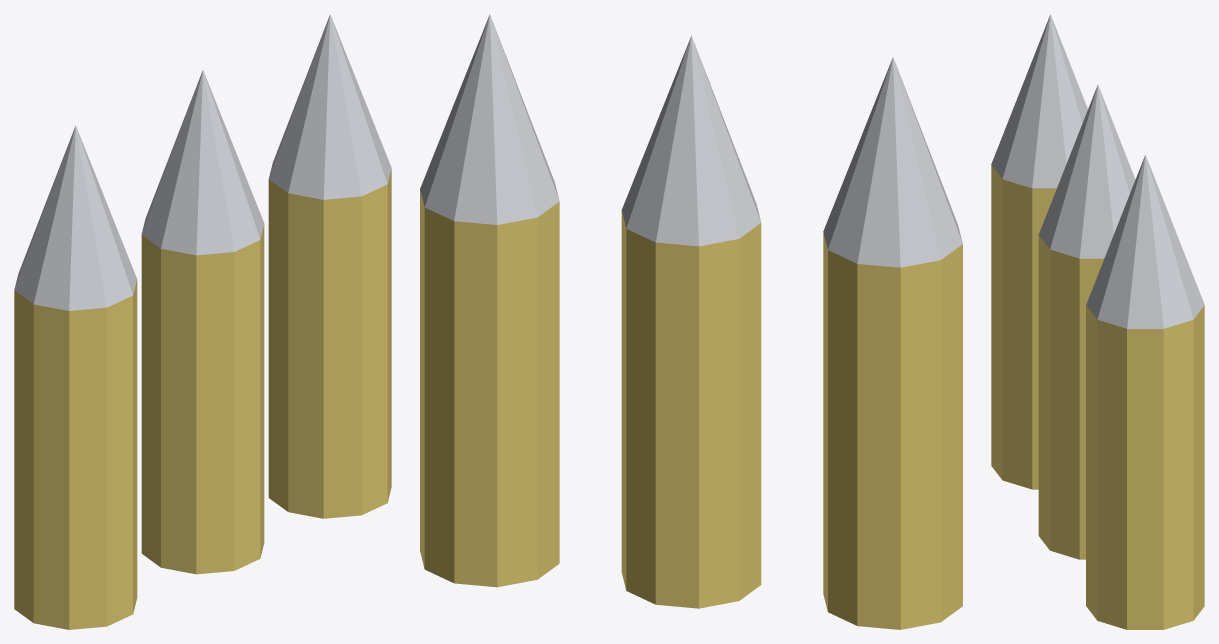
Rendered from AmmoPierce.fbx.
3 renders of one model, left to right at view 1: azimuth 30°, elevation 25°; view 2: azimuth 150°, elevation 25°; view 3: azimuth 270°, elevation 25°, orthographic. The views are drawn at different scales.
Parts seen in each view (by area): view 1: Body; view 2: Body; view 3: Body.
Boxes of the visible parts, box(x1,y1,x2,y2) form: Body: box(14, 14, 391, 629); Body: box(420, 14, 962, 629); Body: box(991, 14, 1204, 629).
Size of the model in its own units: 0.1876 by 0.21 by 0.09.
